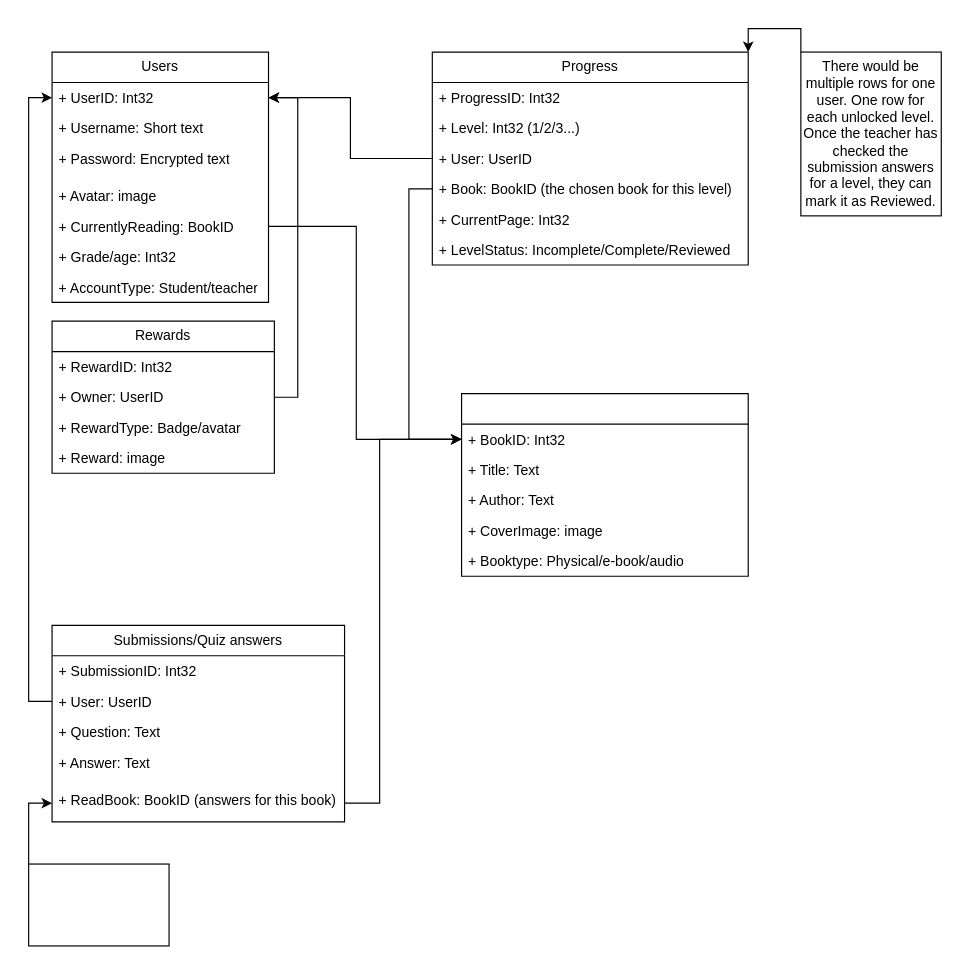
This 962x966 diagram has some shape labels left out. Here are the shapes that lost their labels. From the top down, the box of each, then its label:
(460, 393, 748, 576): Books
(27, 863, 169, 946): Not sure if we should have the completed level here or the Book that was read
